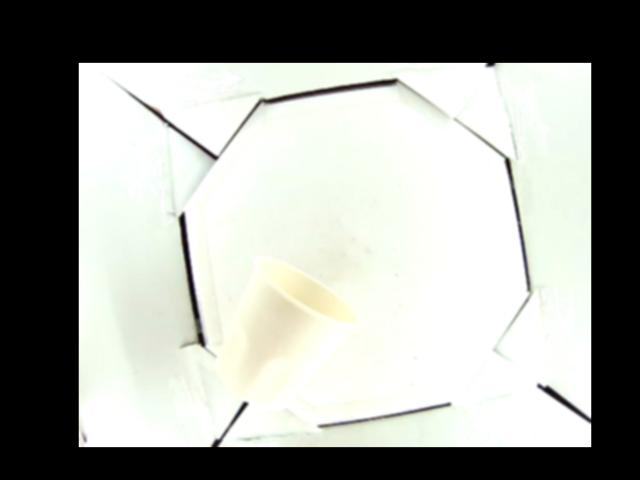Cup: (214, 255, 360, 407)
